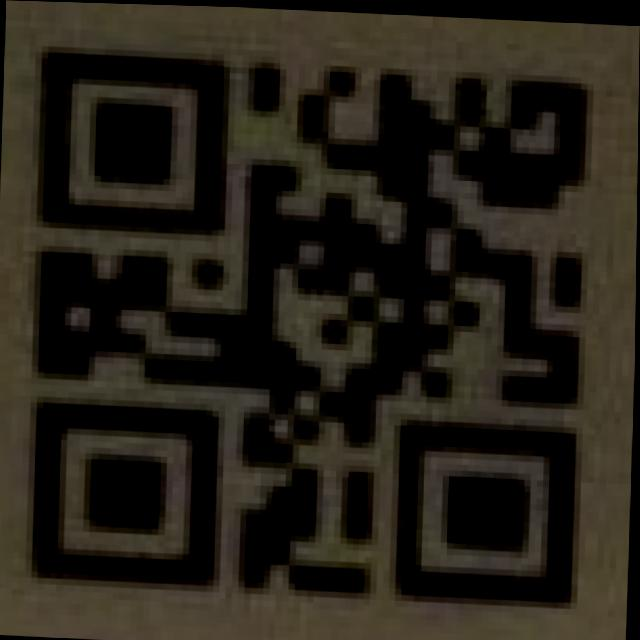QR_CODE: (21, 50, 590, 607)
